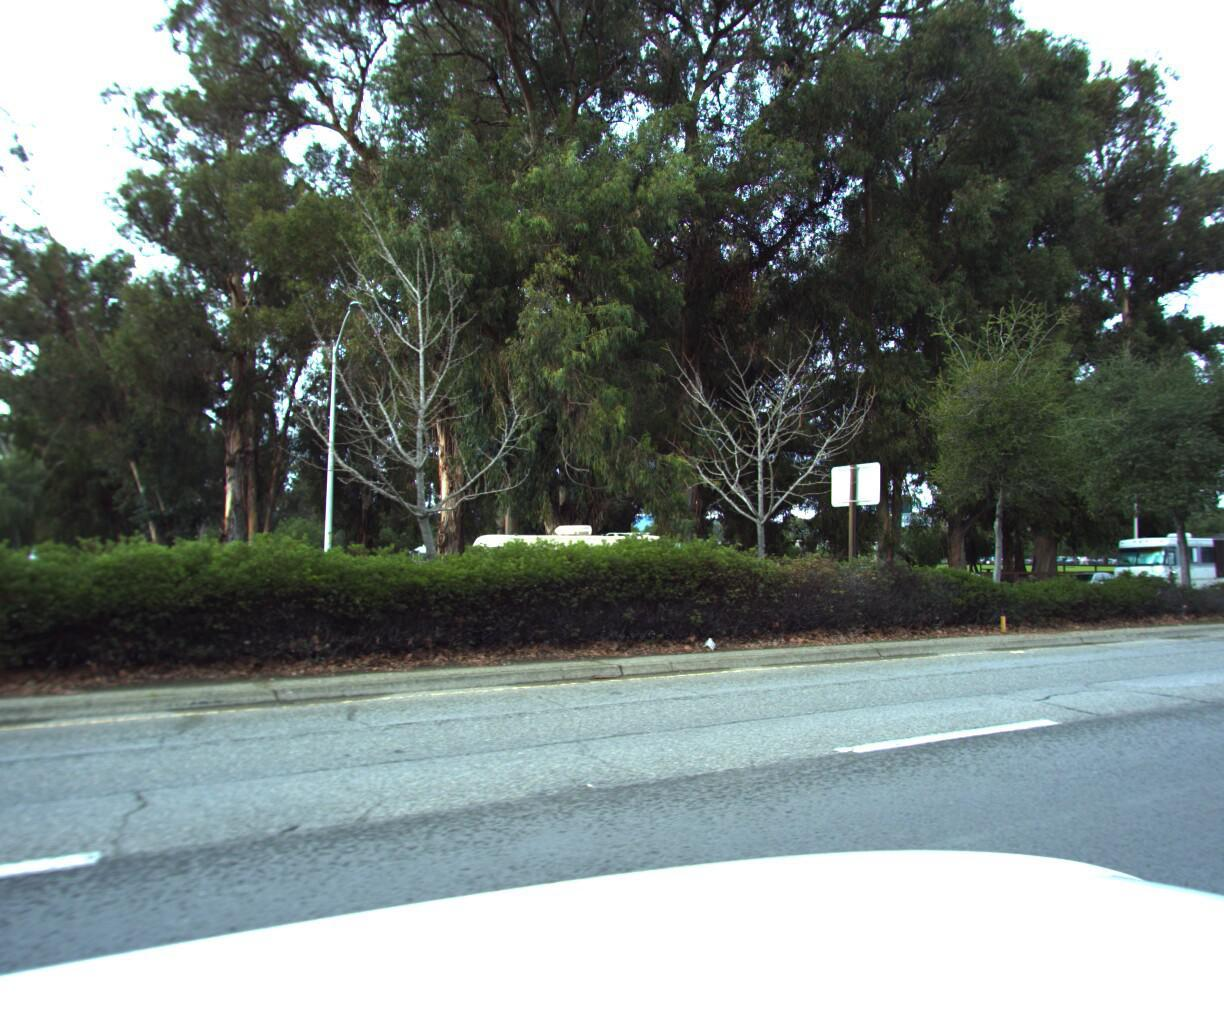other_vehicle: (443, 515, 679, 627), (1094, 522, 1224, 598)
